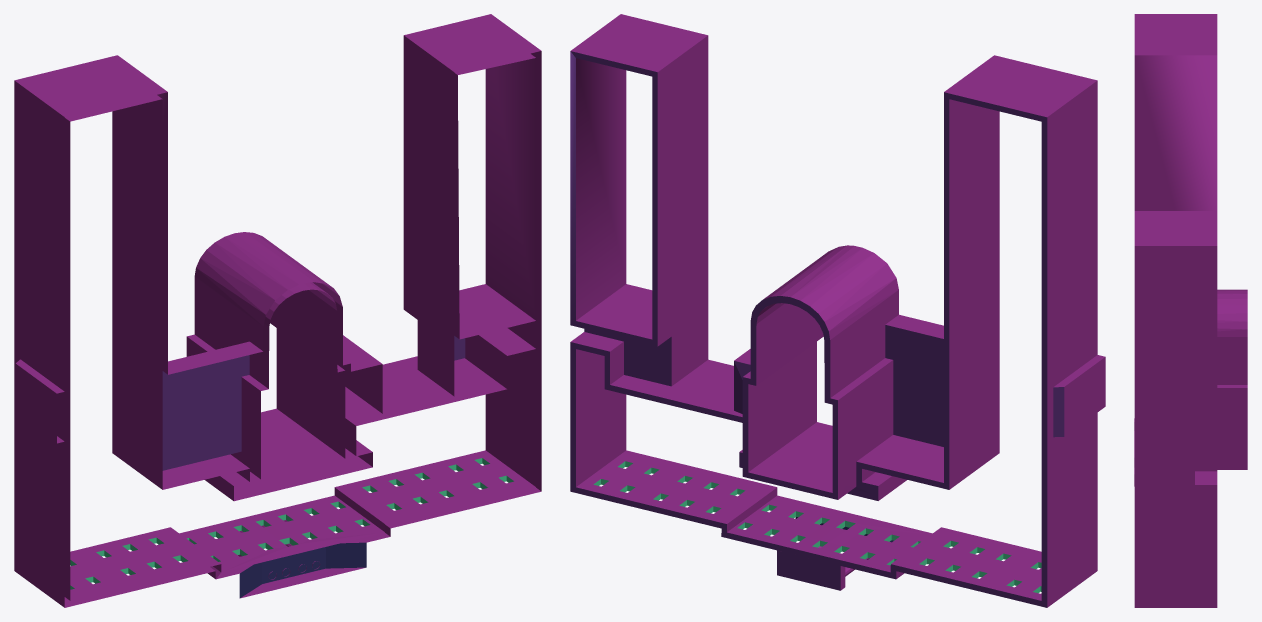
The model's file is Muzeum Malczewskigo Tier 2.fbx.
The picture shows the model from 3 angles, left to right: view 1: azimuth 30°, elevation 25°; view 2: azimuth 150°, elevation 25°; view 3: azimuth 270°, elevation 25°; orthographic projection. The views are drawn at different scales.
Visible parts, largest first — view 1: Cylinder.003; view 2: Cylinder.003; view 3: Cylinder.003.
Boxes of the visible parts, bbox=[...] form: Cylinder.003: bbox=[14, 14, 541, 607]; Cylinder.003: bbox=[570, 14, 1105, 607]; Cylinder.003: bbox=[1134, 14, 1247, 607].
Size of the model in its own units: 3.86 by 3.99 by 0.9504.
